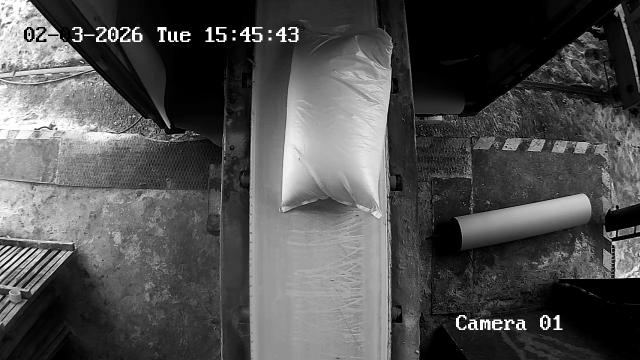bag: (281, 19, 394, 220)
